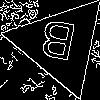B: (35, 19, 79, 70)
